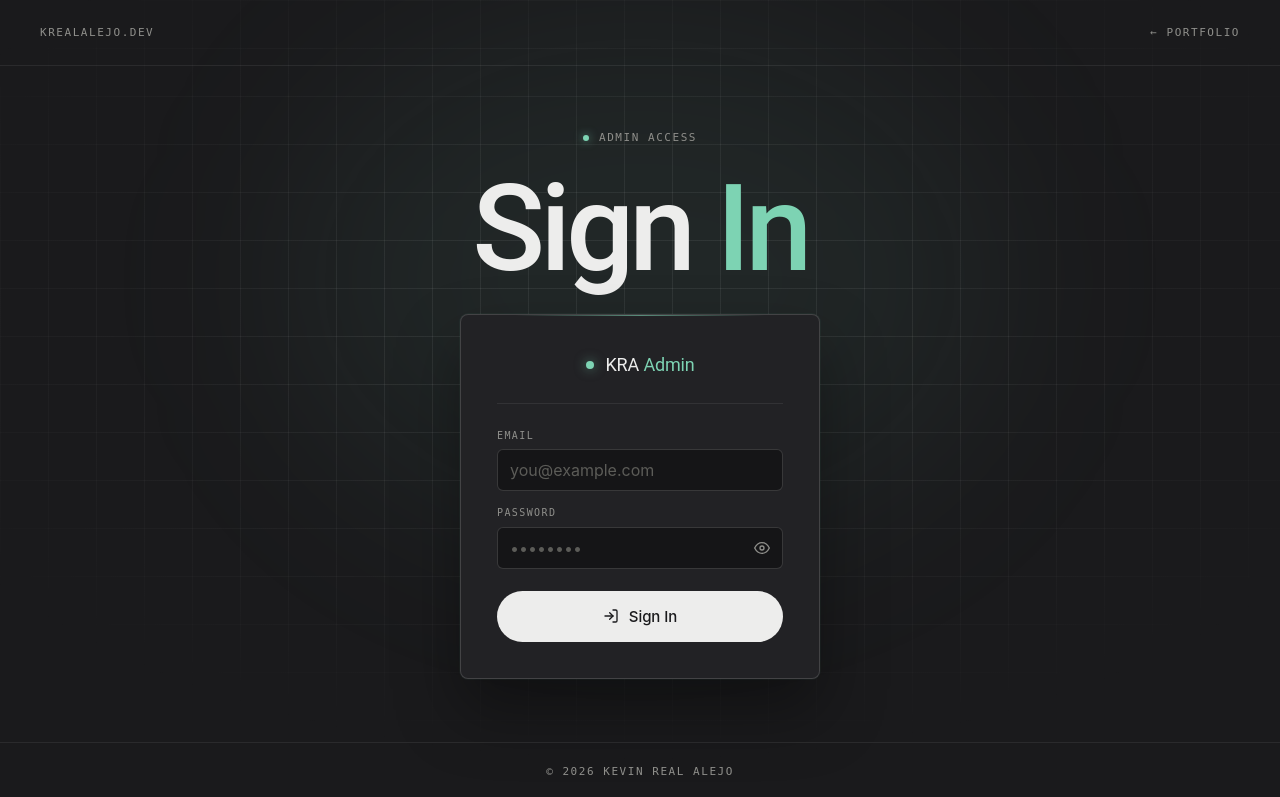
Scenario: pages/admin/login.vue › shows 401 error message for wrong credentials
Type "a@b.com" into the field labelled "Email" at (640, 470), box x1=497 y1=449 x2=783 y2=491
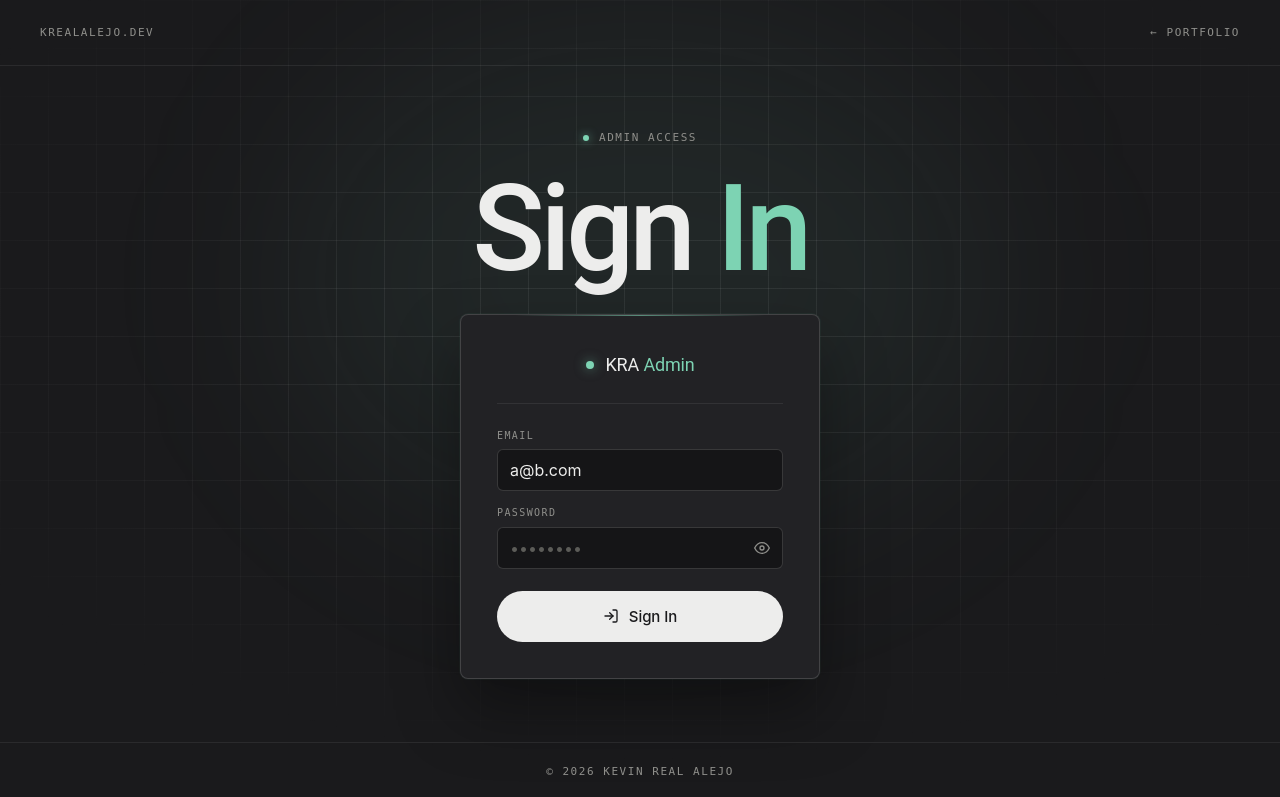
Type "wrong" into the password field labelled "Password" at (640, 548), box x1=497 y1=527 x2=783 y2=569
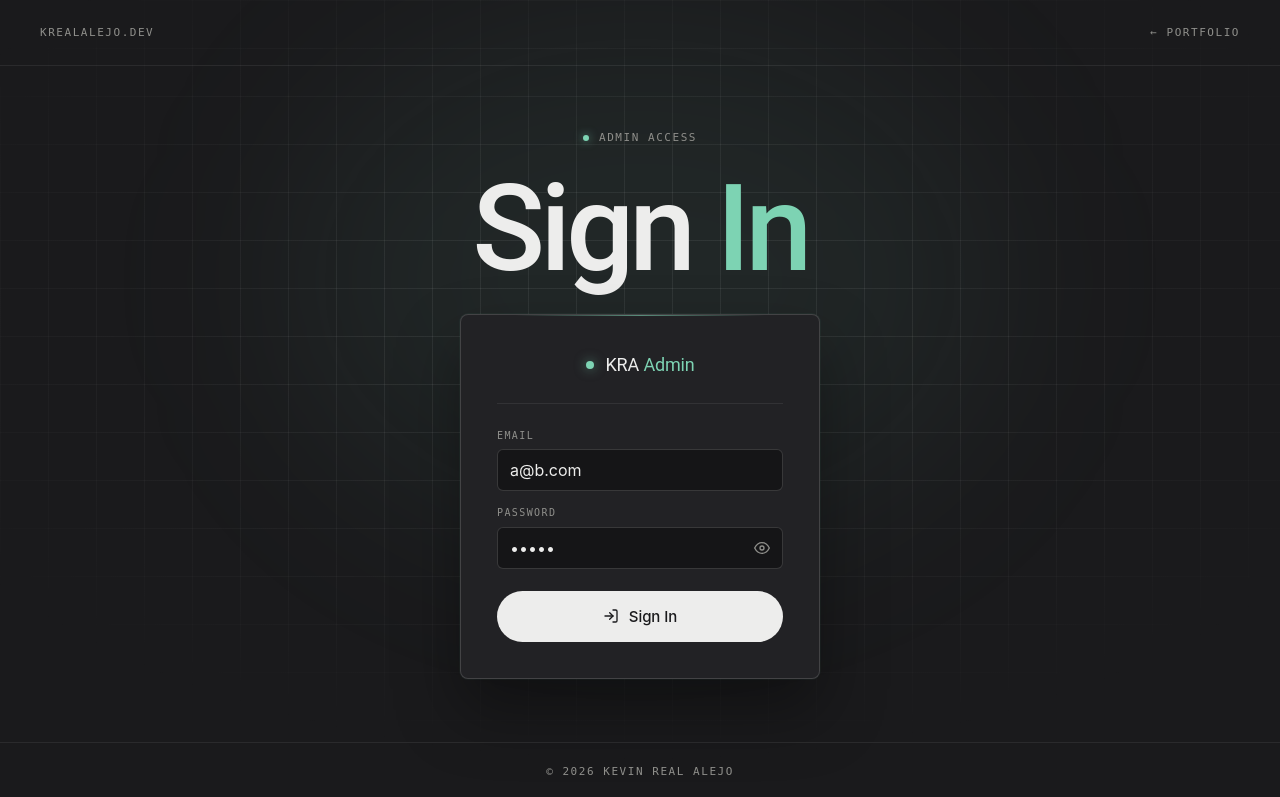
Submit the form, box x1=460 y1=314 x2=820 y2=679
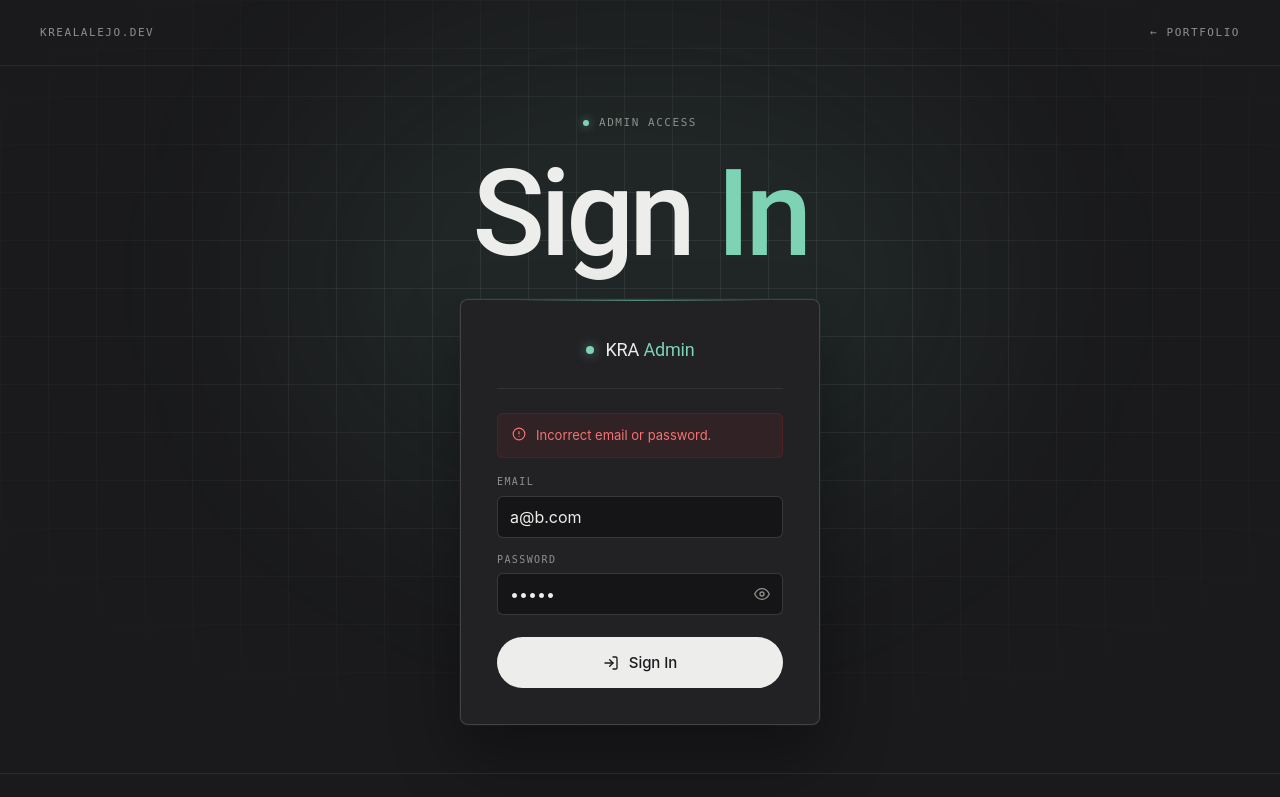
expect the message "Incorrect email or password." is shown: met, box x1=497 y1=413 x2=783 y2=458
